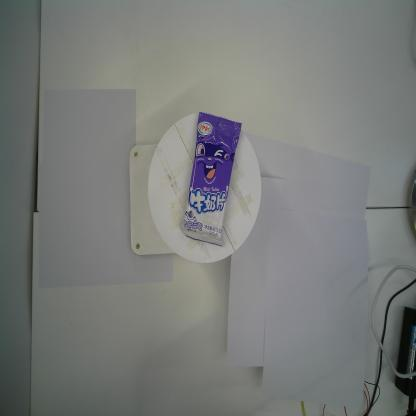Candy: (180, 111, 242, 248)
